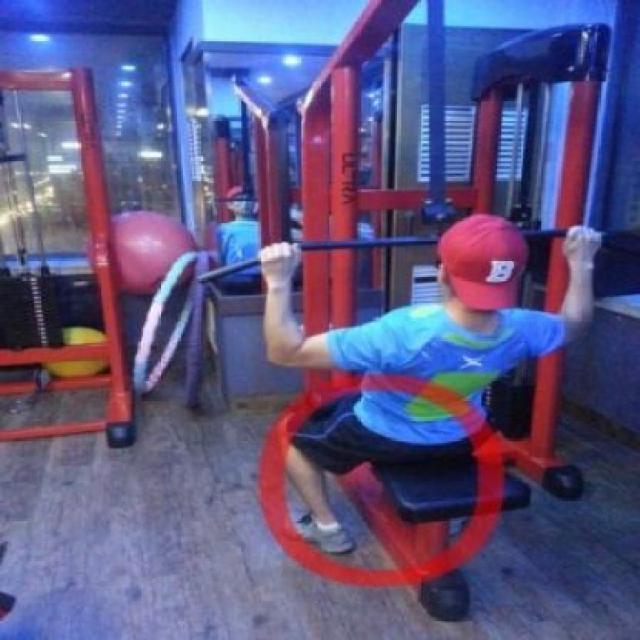Lat Pull Down: (115, 0, 640, 629)
